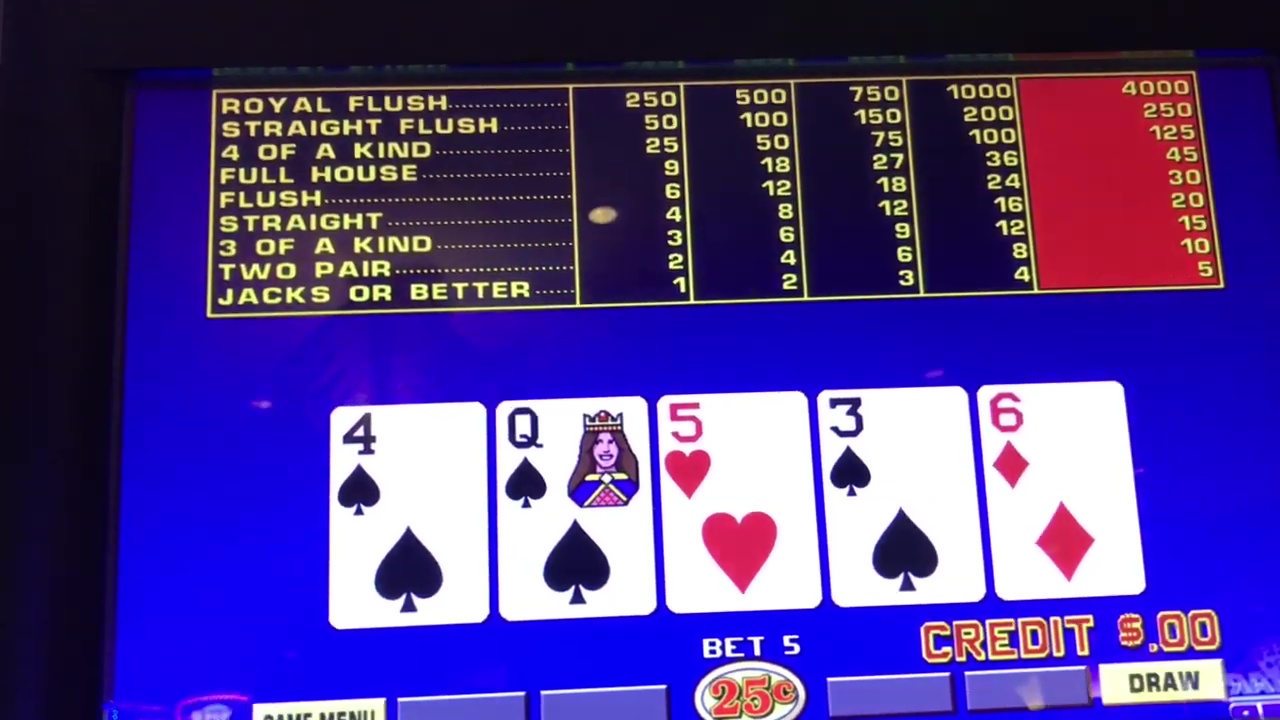D6: (990, 389, 1120, 594)
H5: (663, 396, 809, 607)
S3: (825, 391, 972, 602)
S4: (336, 408, 480, 624)
SQ: (498, 402, 652, 614)
